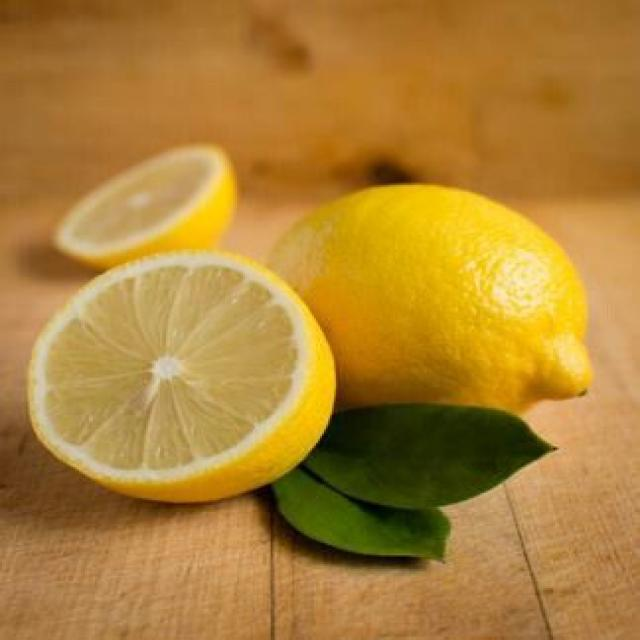lemon: (30, 251, 335, 501), (271, 186, 592, 411), (56, 146, 237, 268)
